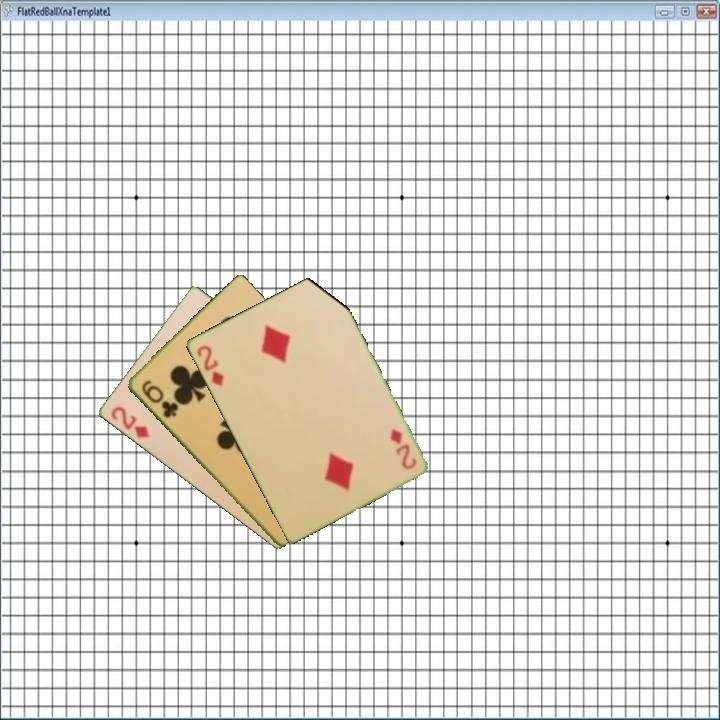2d: (107, 403, 152, 441), (193, 341, 226, 389), (386, 425, 419, 473)
6c: (138, 377, 181, 421)
